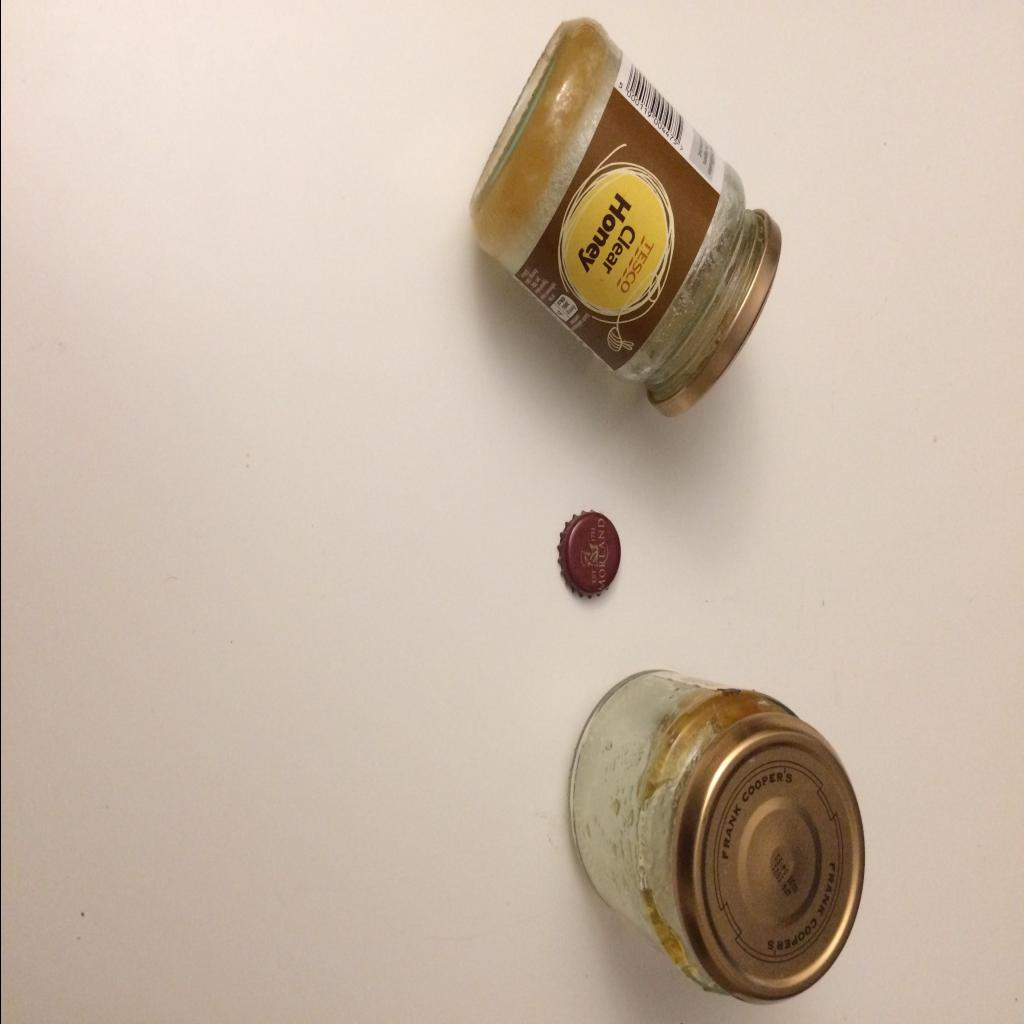Glass jar: (470, 18, 781, 418), (568, 670, 864, 1006)
Metal bottle cap: (556, 510, 620, 600)
Metal lid: (670, 712, 864, 1005), (646, 211, 781, 417)
